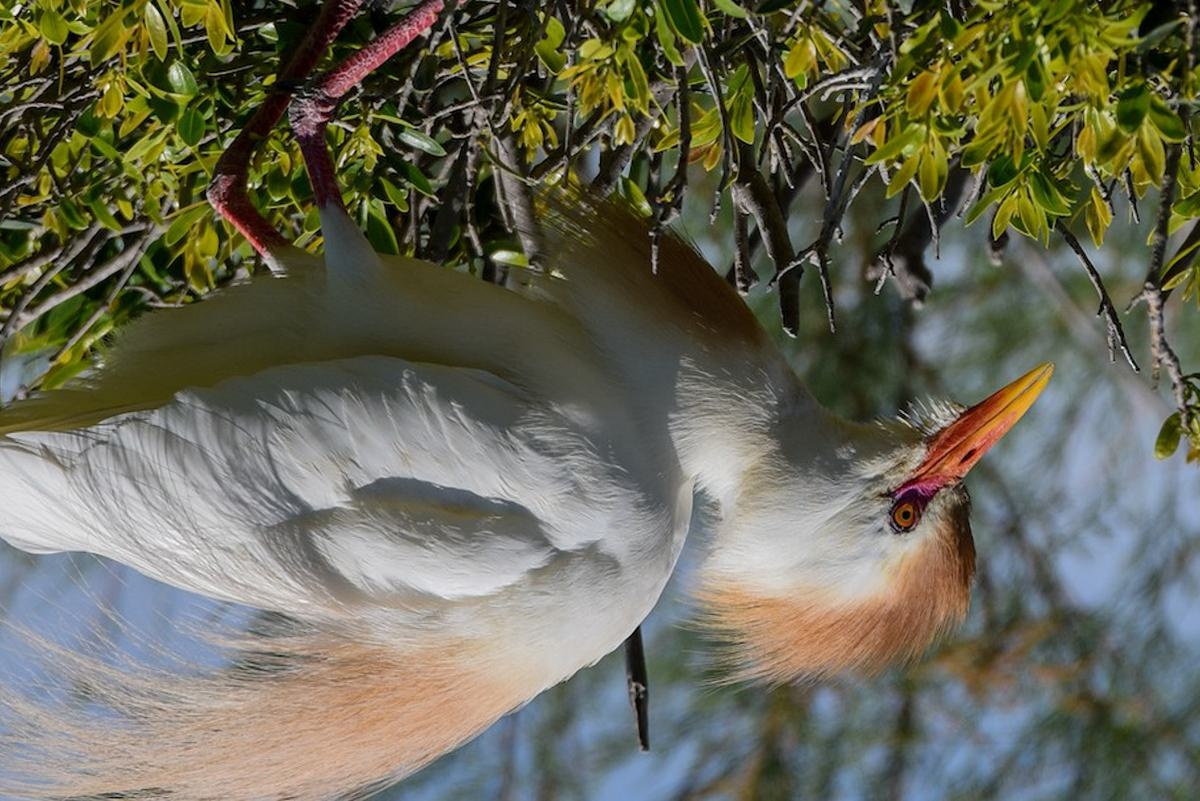egret: (1, 1, 1065, 770)
